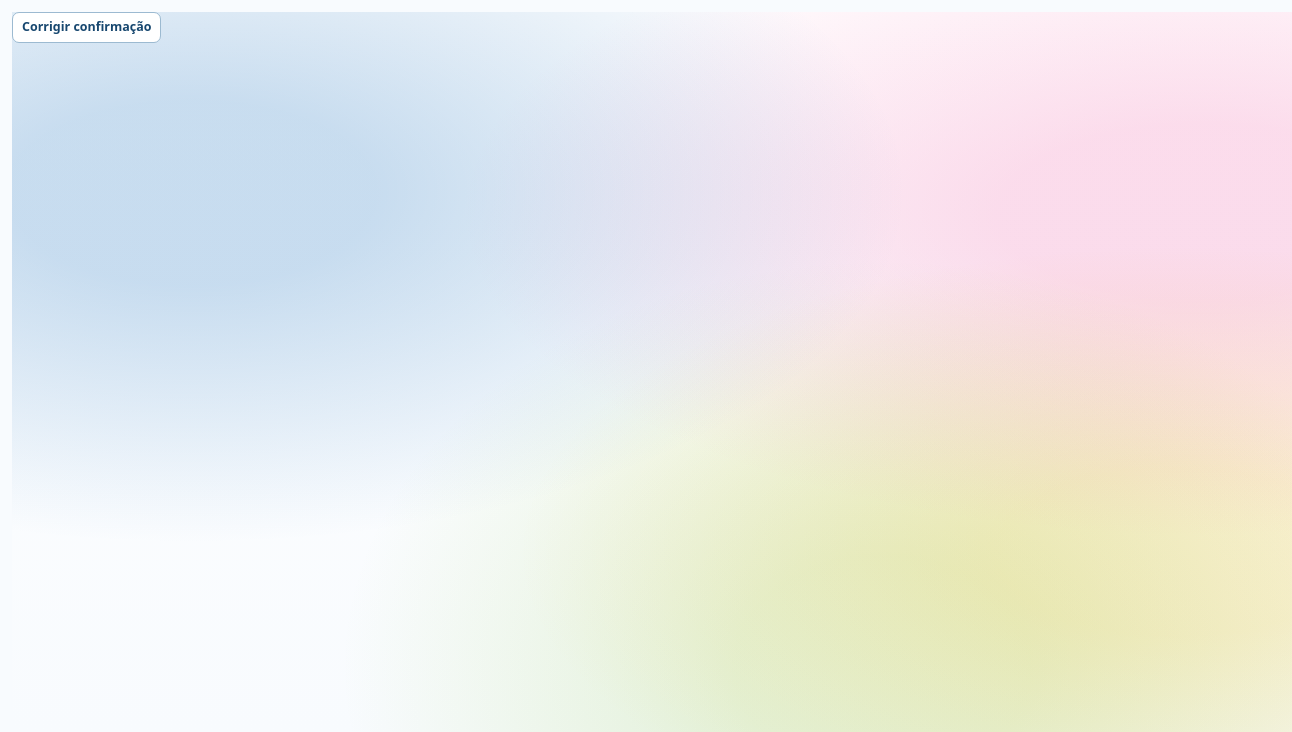
Scenario: Retificação auditável de confirmação manual do CAPO › não permite salvar sem motivo e não altera consulta diretamente
This screenshot has width=1292, height=732.
Click the button with aria-label "Corrigir confirmação manual de Paciente": (87,27) [12,12,161,43]
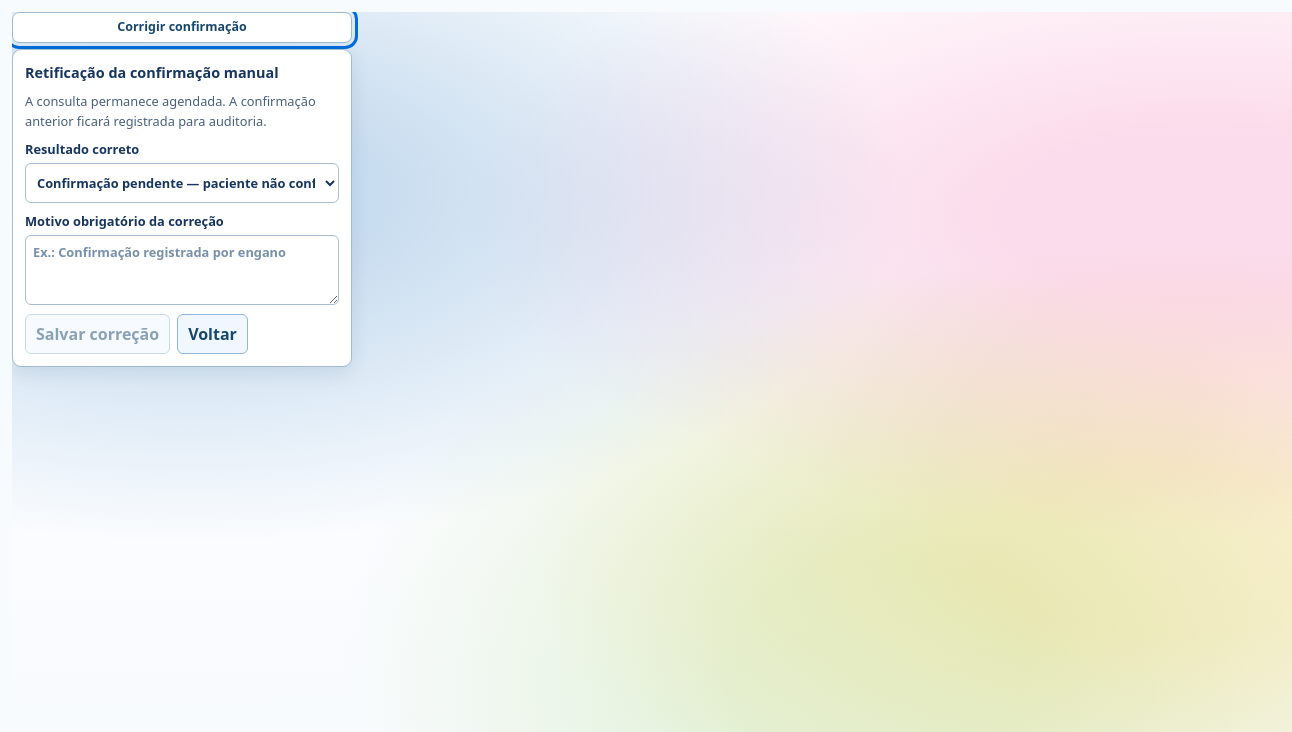
Expected: the button "Salvar correção" is disabled, [25,314,170,354]
